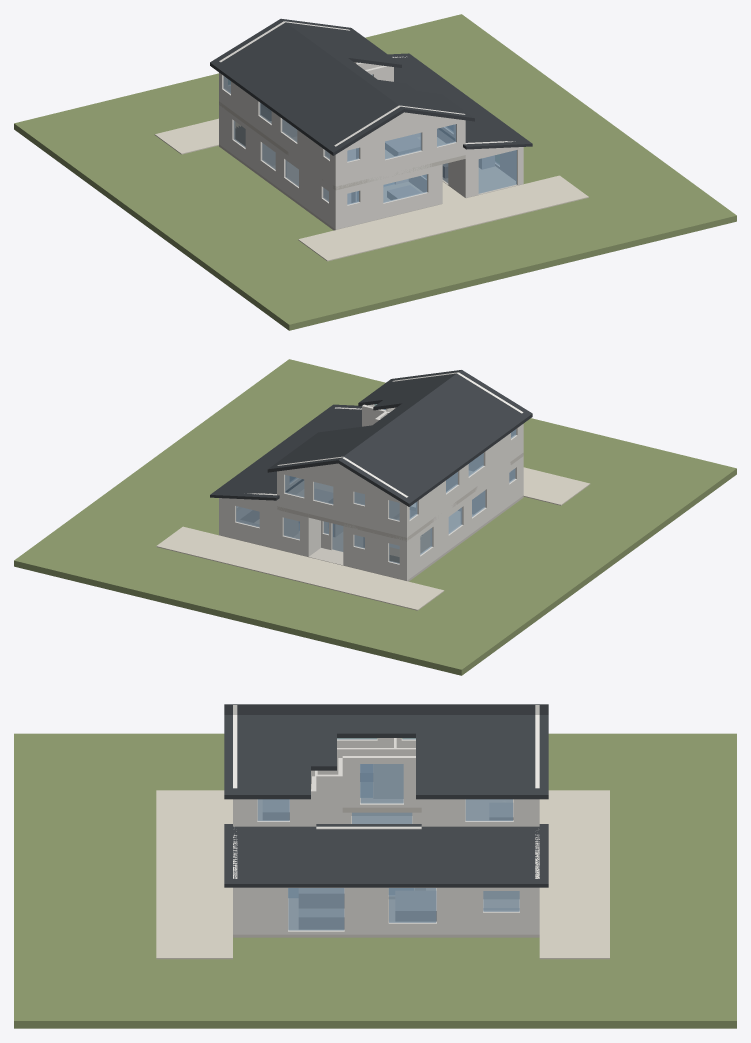
Rendered from casa_rev_g.obj.
3 renders of one model, top to bottom at view 1: azimuth 30°, elevation 25°; view 2: azimuth 150°, elevation 25°; view 3: azimuth 270°, elevation 25°, orthographic. The views are drawn at different scales.
Visible parts, largest first — view 1: terreno, cubierta, muro, pavimento, vidrio, losa, mueble; view 2: terreno, muro, cubierta, pavimento, vidrio, losa, mueble; view 3: terreno, cubierta, pavimento, muro, vidrio, mueble, losa.
Part boxes in pixels (x1,y1,x2,y2): terreno: (14,14,736,330); cubierta: (210,18,532,155); muro: (219,21,523,229); pavimento: (154,118,588,261); vidrio: (223,62,516,204); losa: (219,101,523,230); mueble: (385,135,494,199); terreno: (14,359,736,675); muro: (219,372,523,580); cubierta: (210,370,532,506); pavimento: (156,467,590,610); vidrio: (236,404,515,563); losa: (219,453,523,581); mueble: (237,489,332,526); terreno: (14,733,736,1028); cubierta: (224,704,548,887); pavimento: (156,790,609,959); muro: (233,705,539,934); vidrio: (257,738,519,930); mueble: (263,764,519,929); losa: (233,782,539,937).
Bounding box in the file's own units: 31 × 7.65 × 33.
